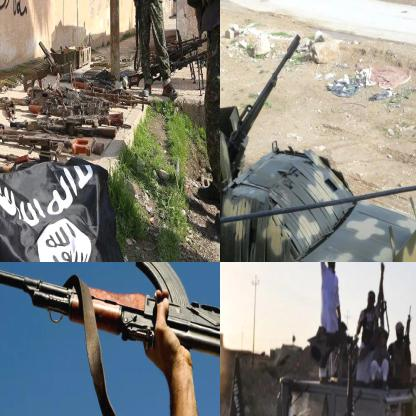rifle: (0, 262, 219, 371), (129, 54, 213, 88), (0, 134, 105, 157), (30, 104, 130, 126), (9, 118, 122, 134), (145, 37, 205, 67)
